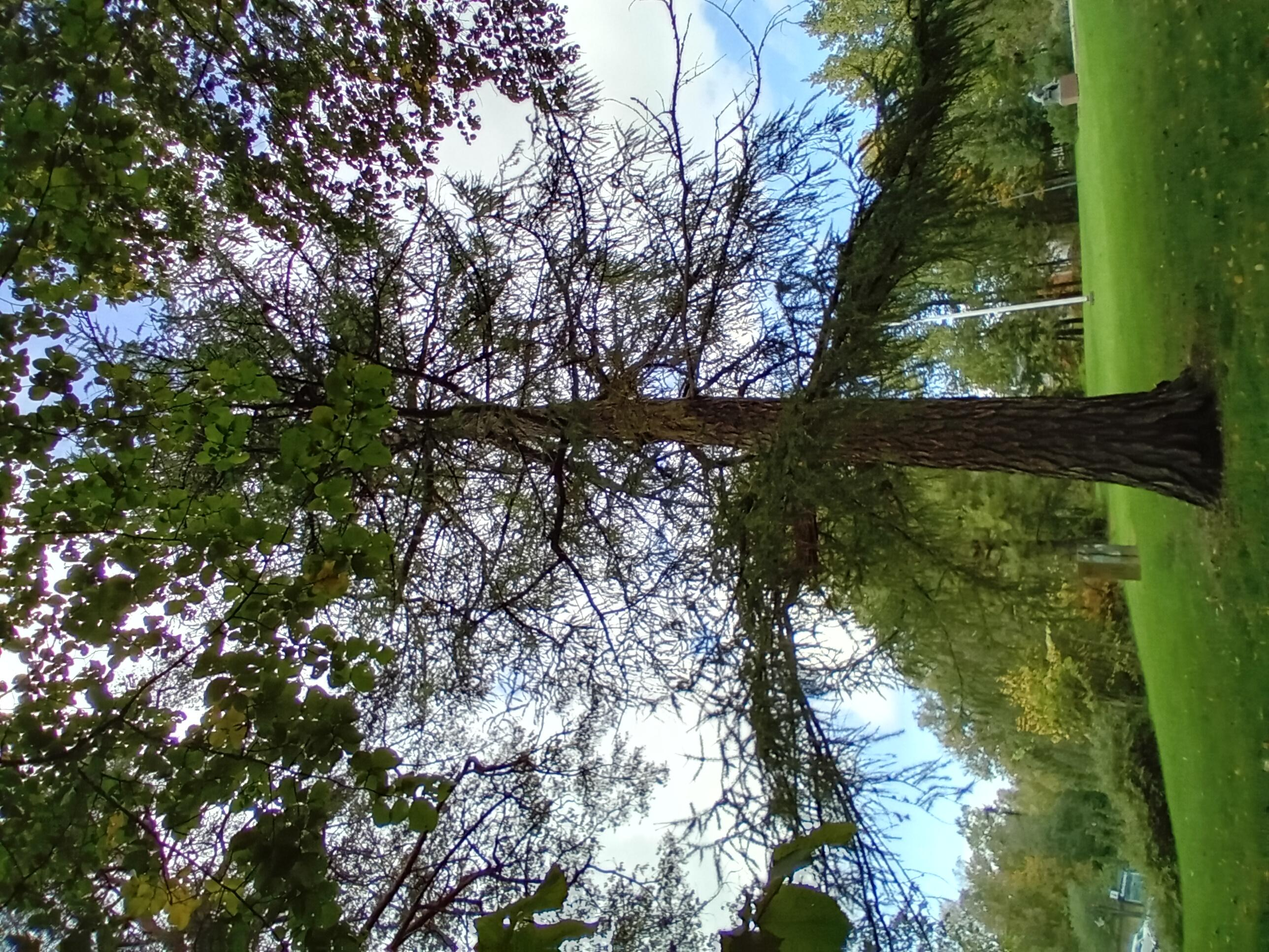Spruce: (350, 55, 1059, 952)
